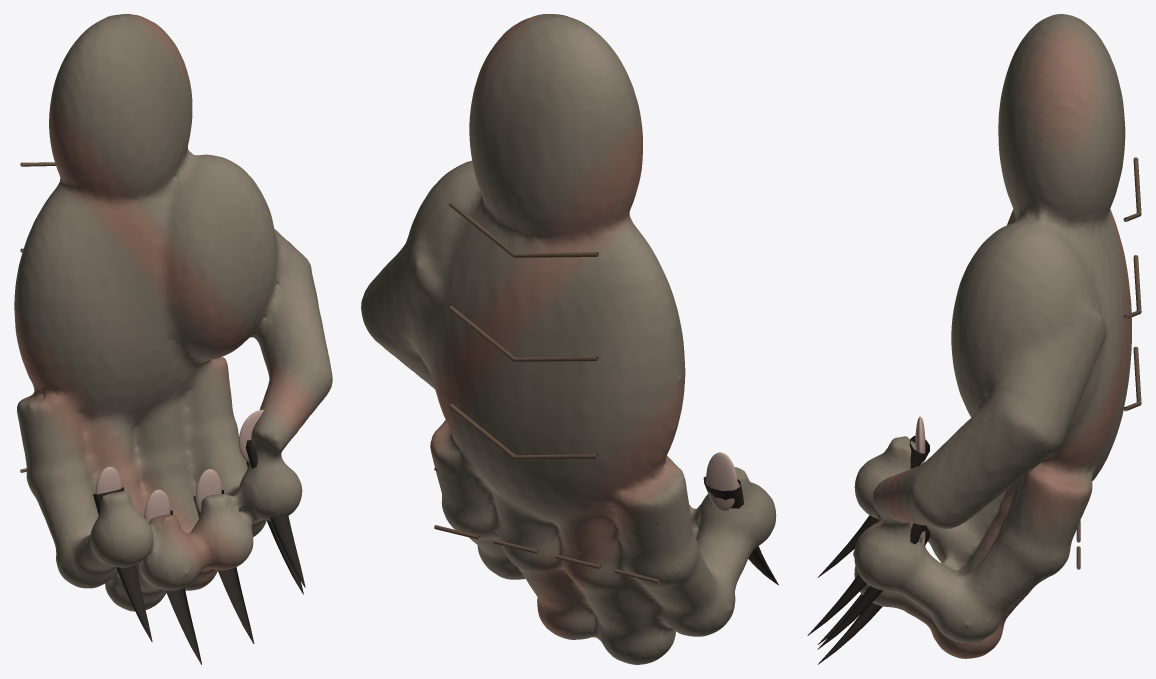
The model's file is clown-hand-desktop.glb.
3 views of the same model, side by side, from view 1: azimuth 30°, elevation 25°; view 2: azimuth 150°, elevation 25°; view 3: azimuth 270°, elevation 25° (orthographic). The views are drawn at different scales.
Visible parts, largest first — view 1: AnatomicalHand, Black claw, Black claw.004, Black claw.002, Black claw.001, Fingernail.002, Fingernail.001, Fingernail, Thumbnail; view 2: AnatomicalHand, Fingernail, Palm fold.001, Palm fold.002, Palm fold, Black claw; view 3: AnatomicalHand, Black claw.003, Black claw, Black claw.002, Black claw.004.
Boxes of the visible parts, x1,y1,x2,y2 form: AnatomicalHand: (14,14,332,611); Black claw: (93,487,152,641); Black claw.004: (245,440,305,587); Black claw.002: (193,490,254,643); Black claw.001: (143,510,201,664); Fingernail.002: (195,469,221,512); Fingernail.001: (144,489,170,522); Fingernail: (95,466,121,494); Thumbnail: (238,409,263,462); AnatomicalHand: (361,14,776,664); Fingernail: (706,452,737,511); Palm fold.001: (449,306,598,361); Palm fold.002: (449,201,598,257); Palm fold: (449,403,598,459); Black claw: (703,476,778,585); AnatomicalHand: (853,14,1131,658); Black claw.003: (817,523,927,649); Black claw: (817,435,929,577); Black claw.002: (818,527,929,664); Black claw.004: (807,574,866,635).
Size of the model in its own units: 0.1065 by 0.2098 by 0.0992.
